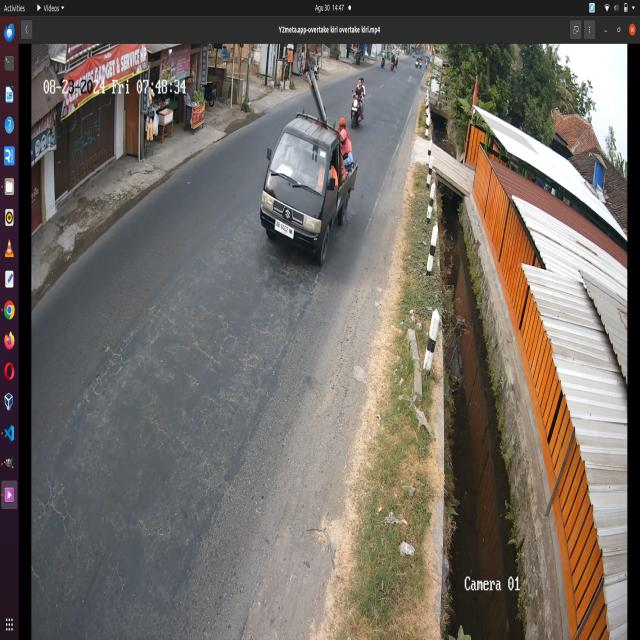person_without_seatbelt: (280, 133, 306, 177), (316, 152, 337, 196)
